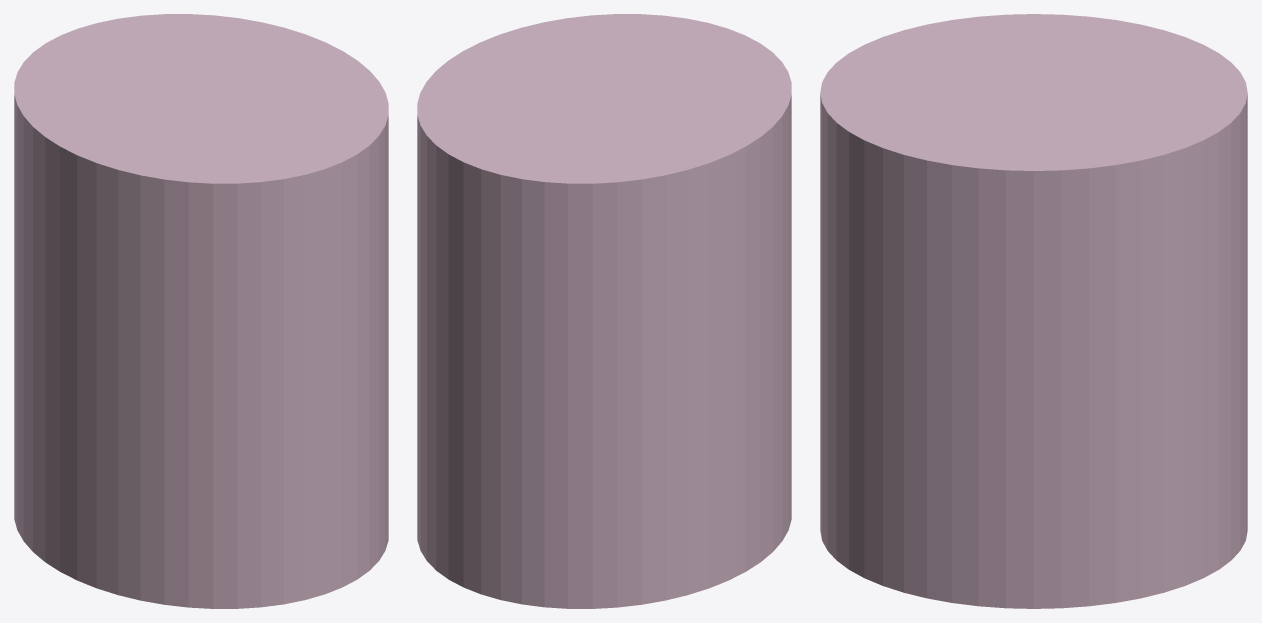
File: Smooth Juttuli.glb
3 renders of one model, left to right at view 1: azimuth 30°, elevation 25°; view 2: azimuth 150°, elevation 25°; view 3: azimuth 270°, elevation 25°, orthographic. The views are drawn at different scales.
Visible parts, largest first — view 1: Mesh_Mesh_head_geo.001_lambert2SG.001; view 2: Mesh_Mesh_head_geo.001_lambert2SG.001; view 3: Mesh_Mesh_head_geo.001_lambert2SG.001.
Part boxes in pixels (left/top/right/bottom): Mesh_Mesh_head_geo.001_lambert2SG.001: left=14, top=14, right=388, bottom=608; Mesh_Mesh_head_geo.001_lambert2SG.001: left=417, top=14, right=791, bottom=608; Mesh_Mesh_head_geo.001_lambert2SG.001: left=820, top=14, right=1247, bottom=608.
Size of the model in its own units: 0.02 by 0.026 by 0.023.
